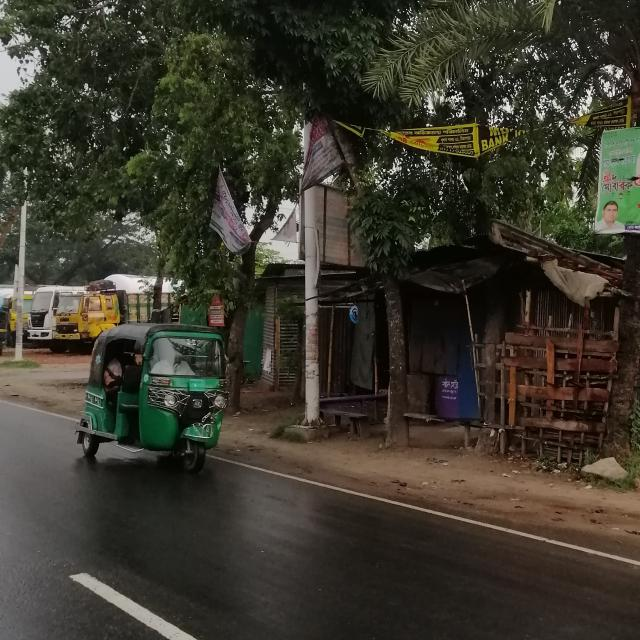CNG: (74, 319, 239, 481)
